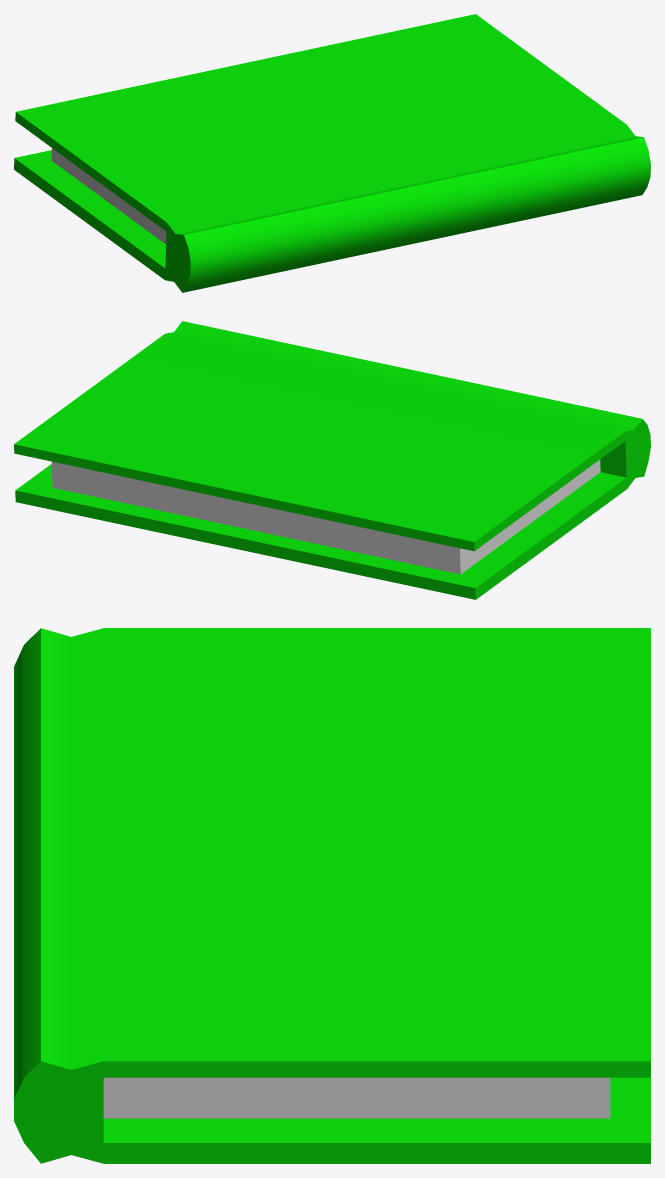
Rendered from Greenbook.fbx.
The picture shows the model from 3 angles, top to bottom: view 1: azimuth 30°, elevation 25°; view 2: azimuth 150°, elevation 25°; view 3: azimuth 270°, elevation 25°; orthographic projection. The views are drawn at different scales.
Parts seen in each view (by area): view 1: pCube2; view 2: pCube2; view 3: pCube2.
Boxes of the visible parts, box(x1,y1,x2,y2) form: pCube2: box(14, 14, 650, 292); pCube2: box(14, 321, 650, 599); pCube2: box(14, 628, 650, 1163).
Bounding box in the file's own units: 7.4 × 1.1 × 4.88.
